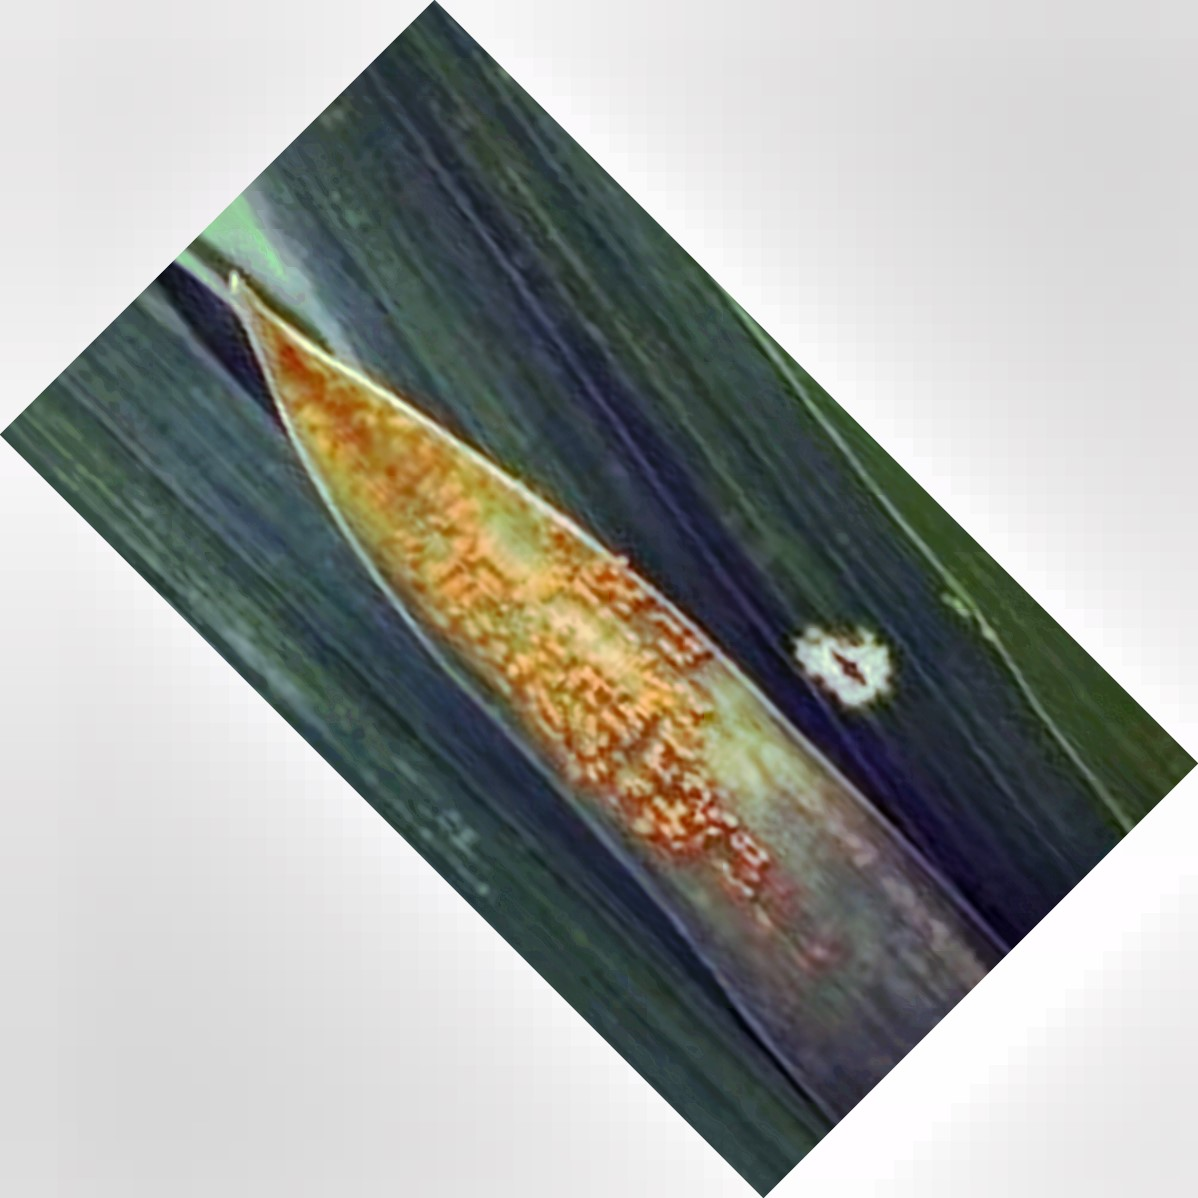Leaf Rust: (255, 360, 826, 957)
